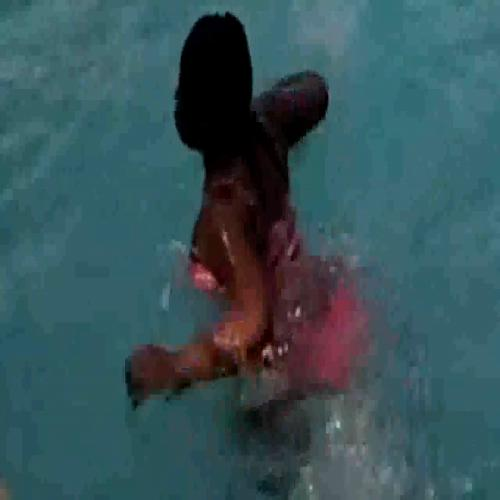swimming: (125, 9, 324, 383)
